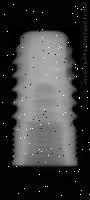Sterngold: (11, 28, 79, 166)
